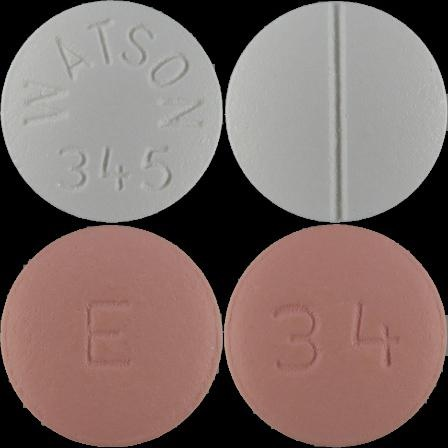58118-0345: (0, 0, 224, 224)
